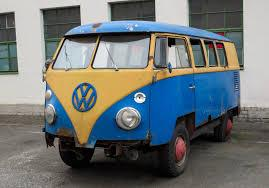volkswagen: (66, 79, 101, 114)
